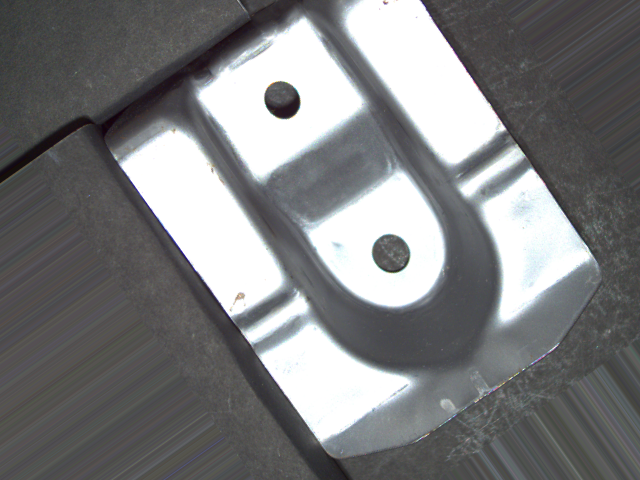defect: (367, 231, 418, 273)
